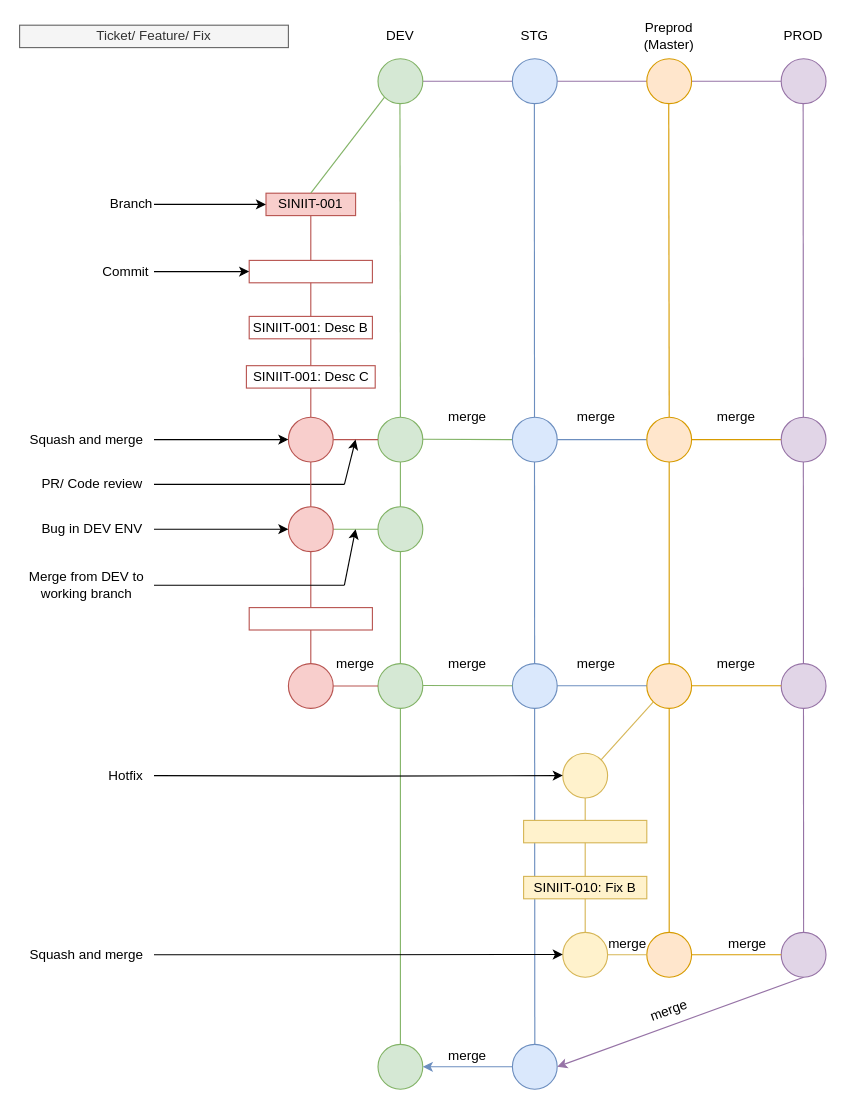
Image size: 846x1109. Some labels were removed from this diagram. The shapes that lost their labels are listed below. From the top down, each one's centre as x and y in pixels, then its label:
At [310,271]: "SINIIT-001: Desc A".
At [310,618]: "SINIIT-001: Desc D".
At [584,831]: "SINIIT-010: Fix A".
